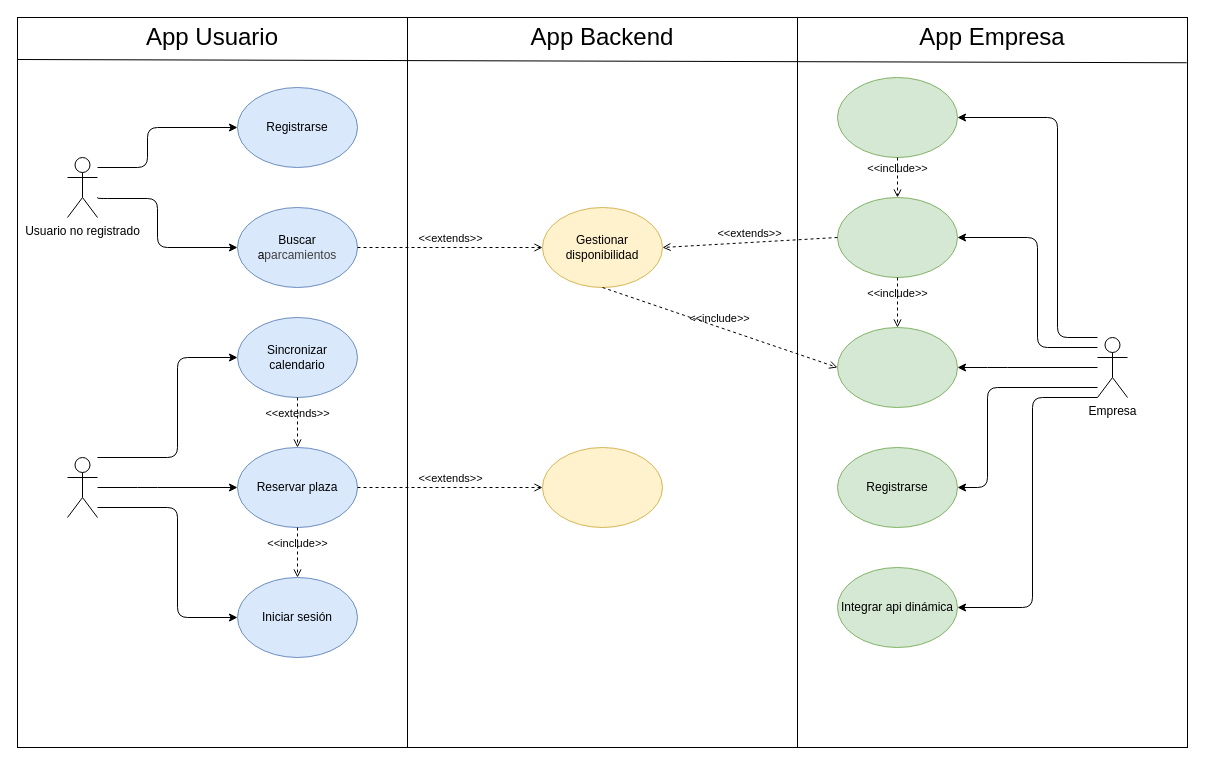
Some shapes in this 1206 by 765 pixel diagram are drawn without their labels. Each missing label, with the box of its shape:
Aplicar sanciones automaticamente: (542, 446, 662, 528)
Definir precios dinamicos: (836, 326, 958, 408)
Gestionar aparcamientos: (836, 196, 958, 278)
Gestionar reserva: (836, 76, 958, 158)
Usuario registrado: (66, 456, 98, 518)
